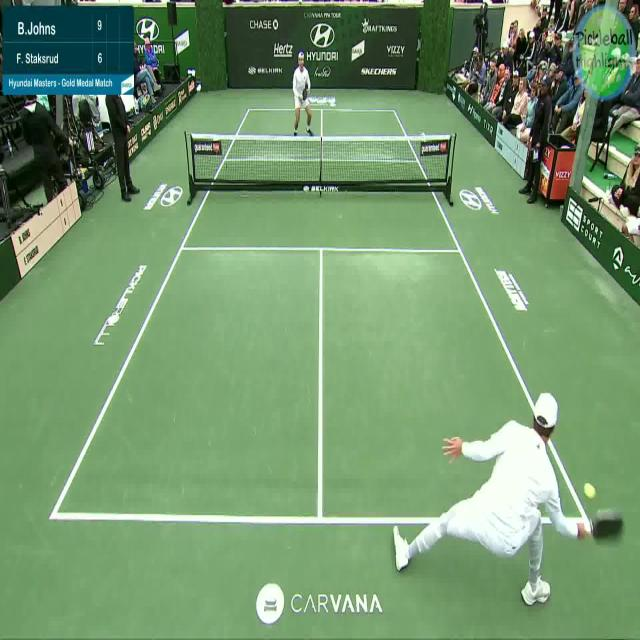ball: (584, 482, 596, 498)
